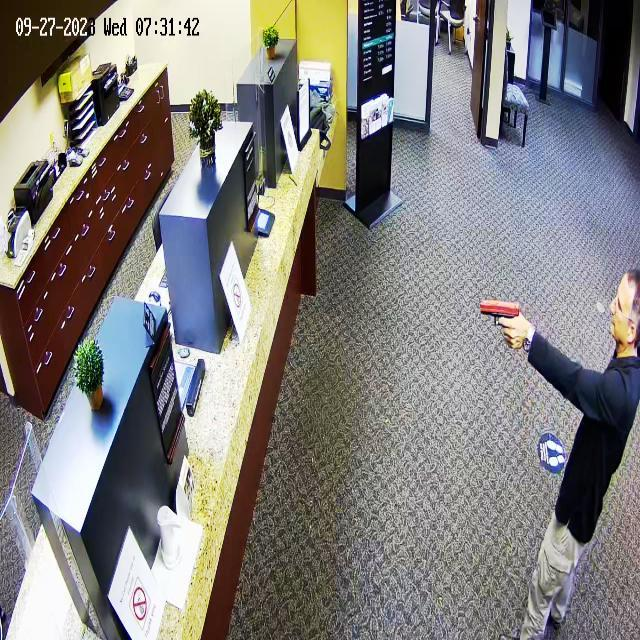Gun: (468, 283, 525, 349)
